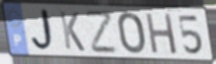5: (177, 14, 205, 56)
H: (144, 11, 179, 56)
J: (30, 8, 58, 54)
K: (58, 10, 87, 53)
O: (116, 11, 147, 56)
Z: (84, 10, 119, 55)
